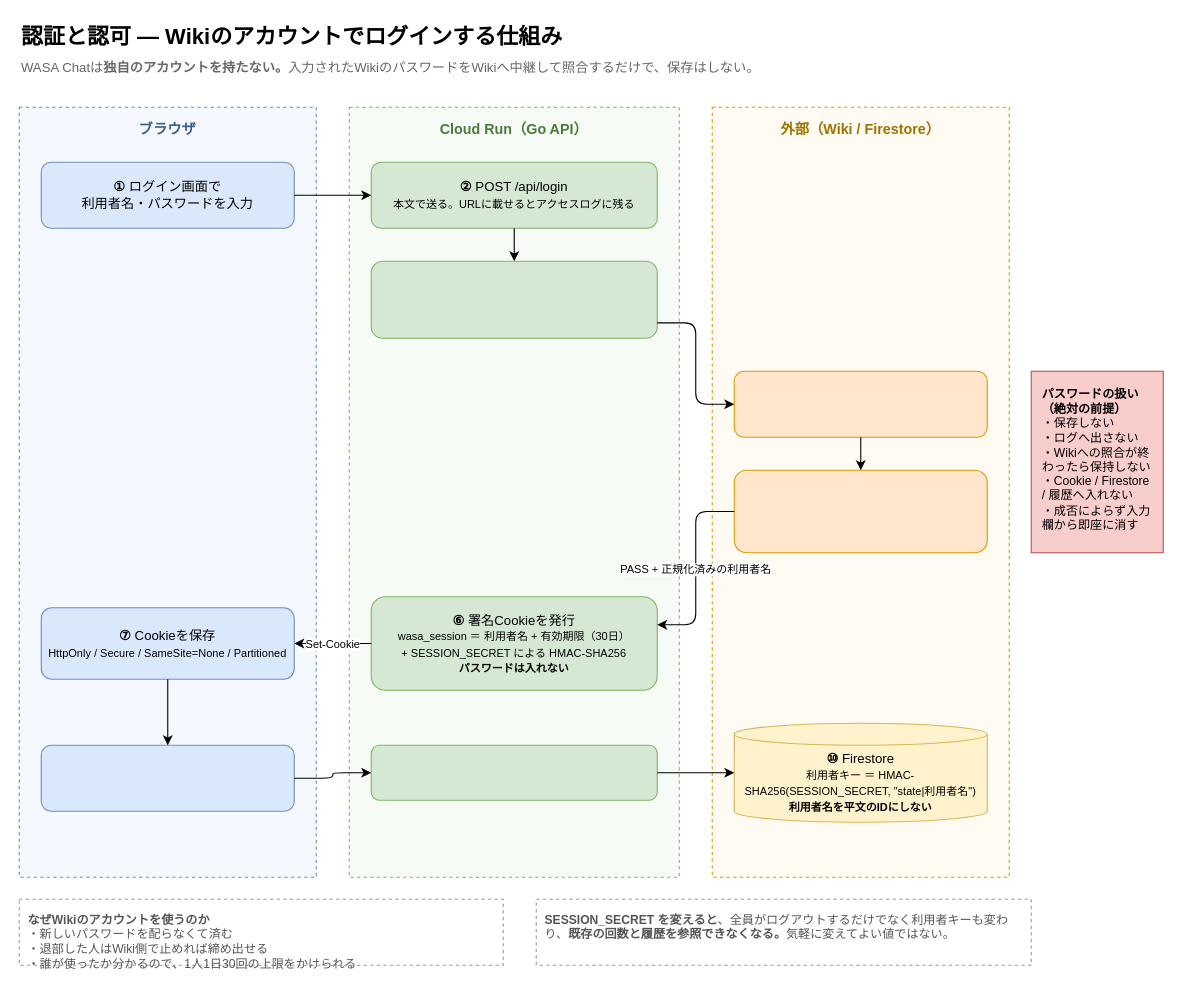
The diagram is 1183 pixels wide and 990 high, and some of its shapes have lost their labels. The centre of each missing label's shape, as x and y in pixels:
③ Originを照合 許可外は 403。Cookieが SameSite=None なので CORSヘッダーだけではCSRFを防げない: point 513,299
④ ログイントークンを取得 action=query&meta=tokens: point 860,403
⑤ action=clientlogin へ中継 ④と同じHTTPセッション / 20秒で打ち切り status: PASS のときだけ成功: point 860,511
⑧ 以降のAPI（/api/ask など） Cookieを付けて送る: point 167,777
⑨ 署名を検証し、利用者名を取り出す: point 513,772
